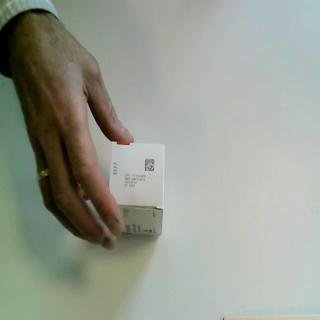morfin10mg: (108, 140, 168, 240)
